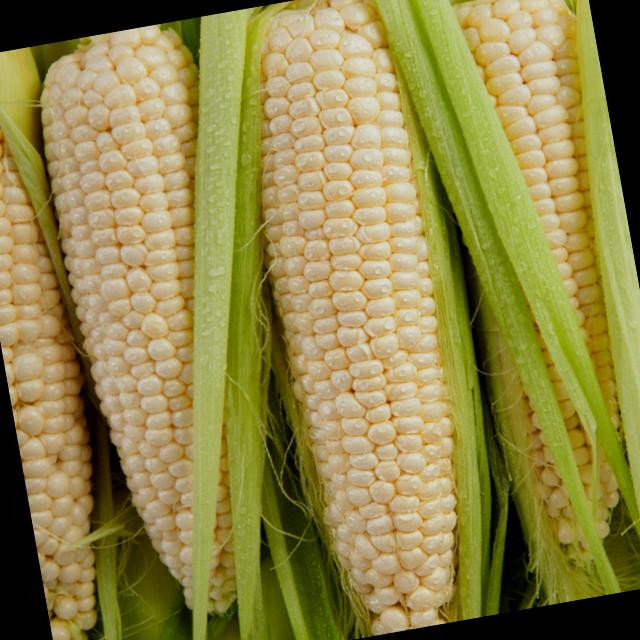corn: (166, 0, 531, 640), (20, 13, 329, 640), (403, 0, 640, 610)
